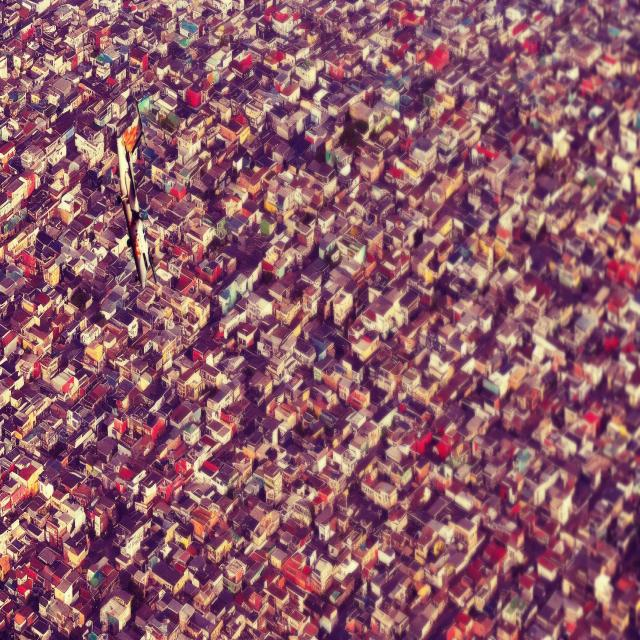airplane: (114, 95, 158, 290)
